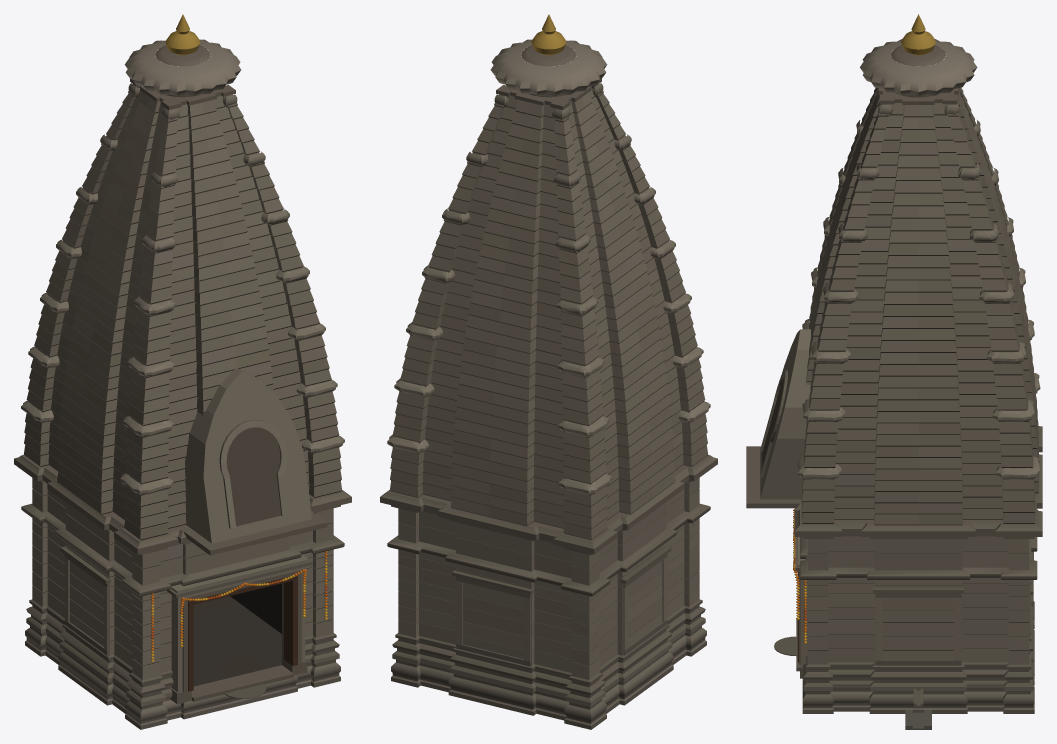
The model's file is shrine.glb.
The picture shows the model from 3 angles, left to right: view 1: azimuth 30°, elevation 25°; view 2: azimuth 150°, elevation 25°; view 3: azimuth 270°, elevation 25°; orthographic projection.
Visible parts, largest first — view 1: shrine; view 2: shrine; view 3: shrine.
Boxes of the visible parts, left/top/right/bottom form: shrine: left=14, top=14, right=351, bottom=729; shrine: left=380, top=14, right=717, bottom=729; shrine: left=746, top=14, right=1042, bottom=729.
Size of the model in its own units: 6.23 by 16.1 by 6.64.
